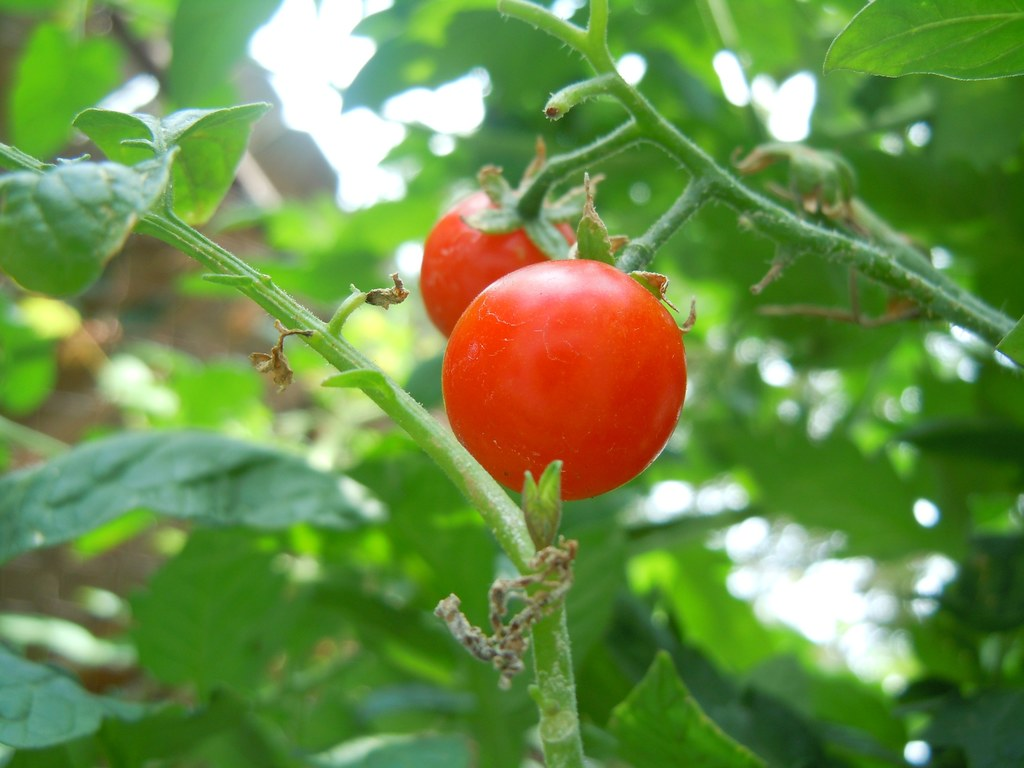Tomato: (442, 259, 688, 501), (419, 191, 580, 334)
